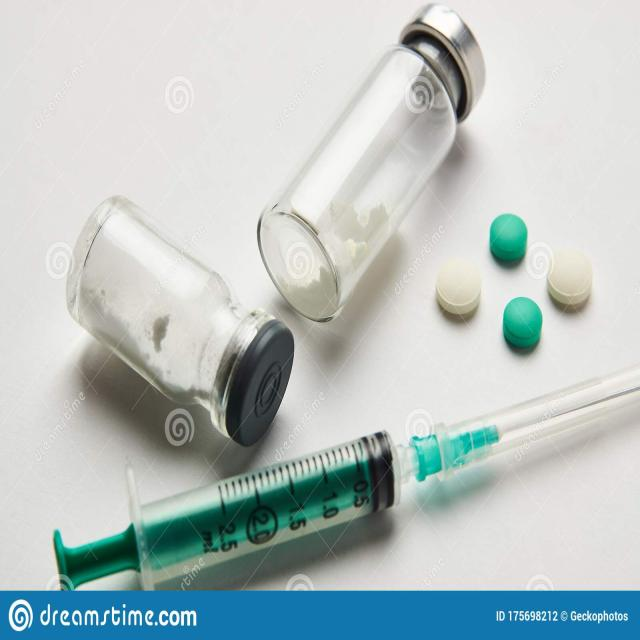B3: (38, 357, 640, 597), (228, 3, 504, 315), (56, 190, 292, 455)
